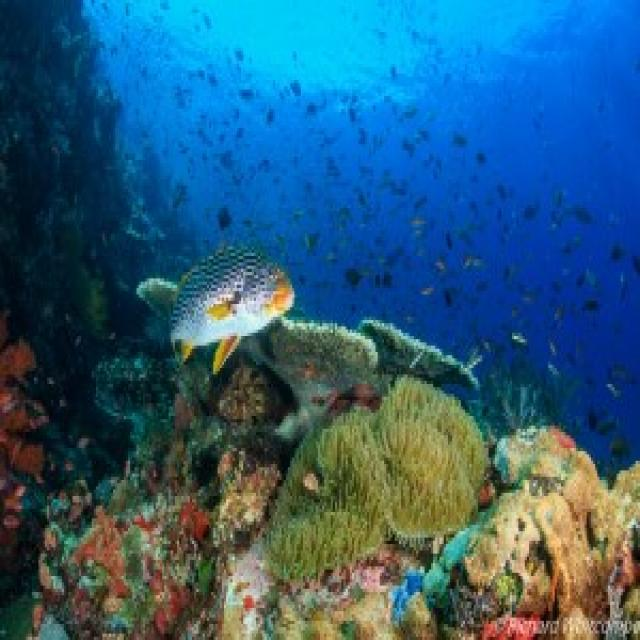Healthy: (268, 379, 487, 580), (462, 430, 639, 638), (69, 494, 214, 638), (240, 318, 376, 407), (359, 321, 479, 385), (216, 449, 280, 545)
